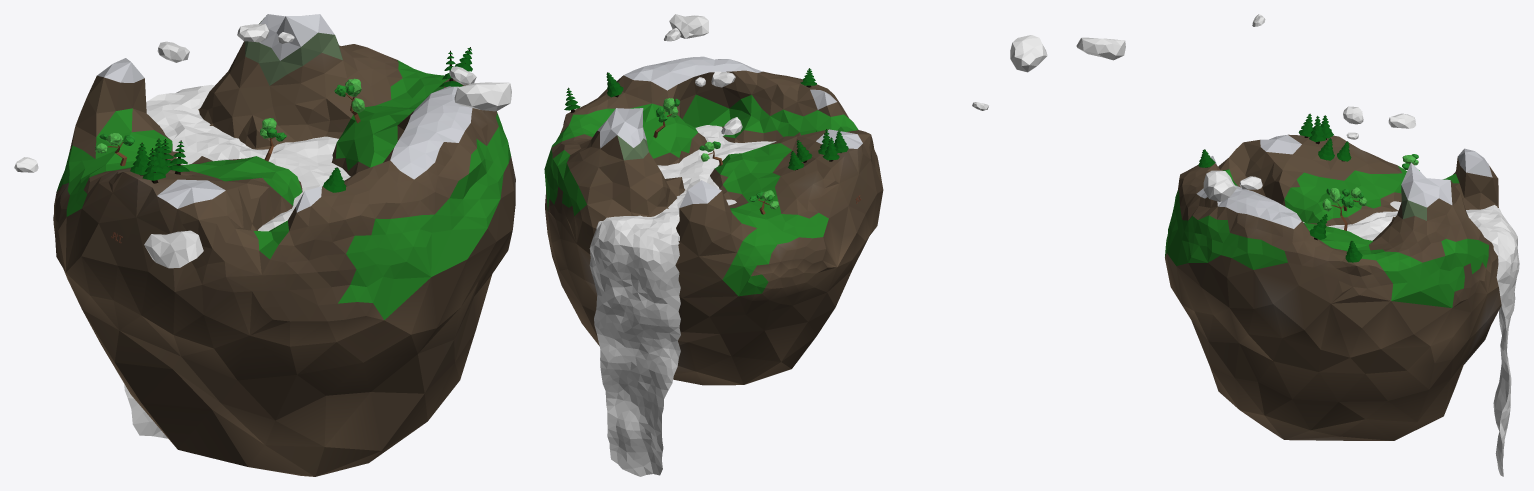
File: Freelance Design 3D Motion Design Réalisation vidéo Jean-Yves TR.fbx
The picture shows the model from 3 angles, left to right: view 1: azimuth 30°, elevation 25°; view 2: azimuth 150°, elevation 25°; view 3: azimuth 270°, elevation 25°; orthographic projection. The views are drawn at different scales.
Visible parts, largest first — view 1: Icosphere, Plane, Icosphere.006, Icosphere.004, Cube.002, Cube.001; view 2: Icosphere, Plane, Icosphere.006, Icosphere.004; view 3: Icosphere, Plane, Icosphere.006, Icosphere.004, Cube.002.
Boxes of the visible parts, left/top/right/bottom form: Icosphere: left=53, top=14, right=515, bottom=476; Plane: left=124, top=84, right=350, bottom=438; Icosphere.006: left=144, top=230, right=203, bottom=268; Icosphere.004: left=454, top=82, right=511, bottom=111; Cube.002: left=334, top=78, right=364, bottom=123; Cube.001: left=95, top=133, right=134, bottom=165; Icosphere: left=544, top=56, right=883, bottom=385; Plane: left=589, top=125, right=776, bottom=476; Icosphere.006: left=1010, top=35, right=1047, bottom=72; Icosphere.004: left=669, top=14, right=708, bottom=38; Icosphere: left=1165, top=134, right=1501, bottom=440; Plane: left=1303, top=201, right=1519, bottom=476; Icosphere.006: left=1076, top=37, right=1125, bottom=60; Icosphere.004: left=1203, top=170, right=1236, bottom=201; Cube.002: left=1322, top=187, right=1353, bottom=230.
Bounding box in the file's own units: 2507 × 2208 × 2472.
